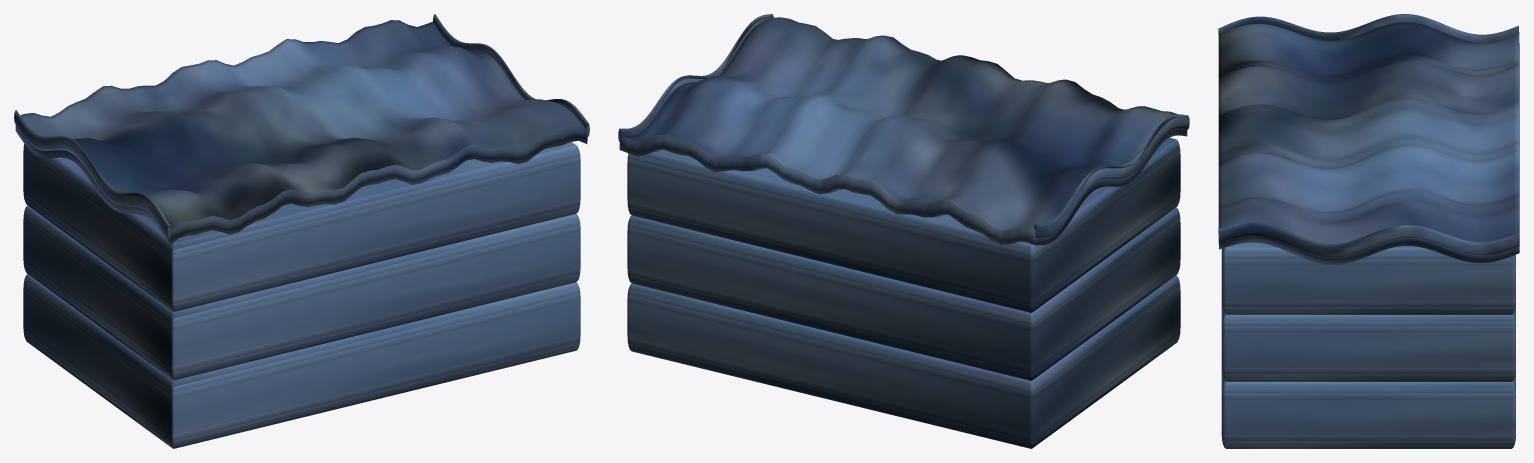
The model's file is counter_items__caddy_cloth.glb.
The picture shows the model from 3 angles, left to right: view 1: azimuth 30°, elevation 25°; view 2: azimuth 150°, elevation 25°; view 3: azimuth 270°, elevation 25°; orthographic projection. The views are drawn at different scales.
Visible parts, largest first — view 1: body; view 2: body; view 3: body.
Boxes of the visible parts, x1,y1,x2,y2 form: body: [14, 14, 589, 448]; body: [618, 14, 1189, 448]; body: [1218, 14, 1519, 448].
Size of the model in its own units: 0.1427 by 0.0792 by 0.09.
1 material, 1 textured.
